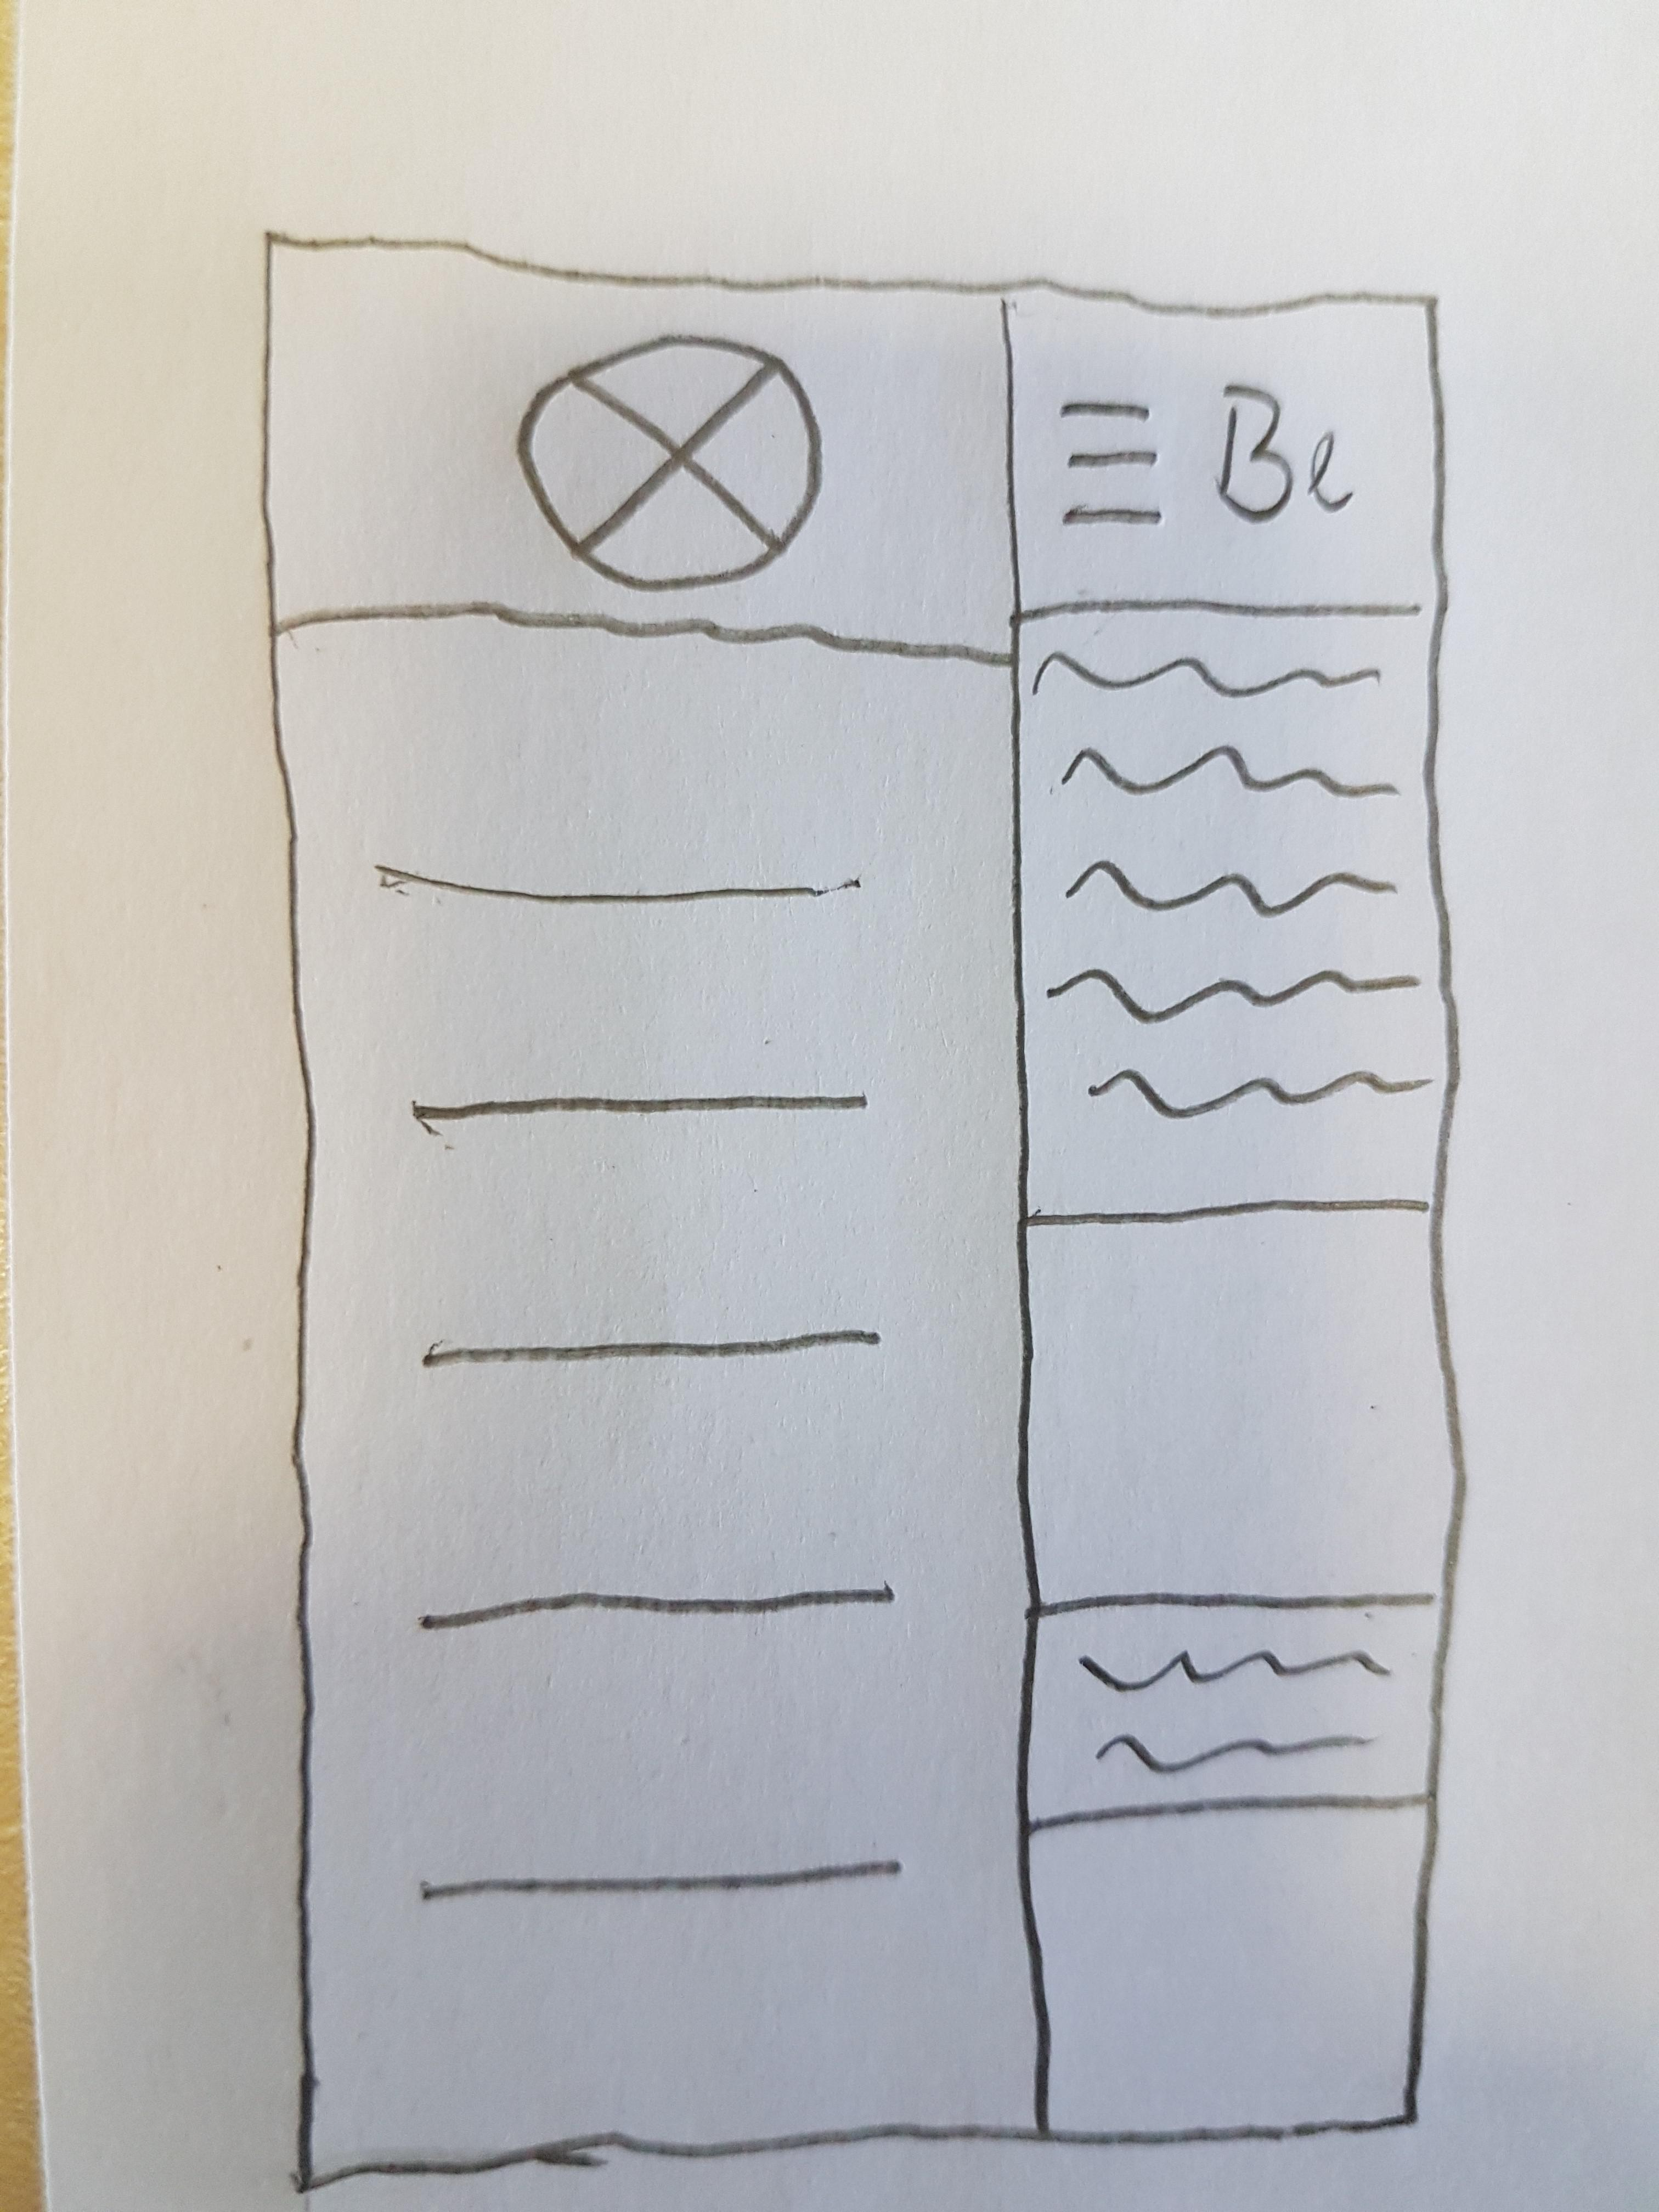Button: (1049, 399, 1173, 536)
Image: (518, 334, 823, 596)
Label: (362, 845, 917, 1909), (1028, 646, 1436, 1120), (1068, 1646, 1408, 1773), (1211, 381, 1363, 529)
Screen: (267, 228, 1471, 2191)
